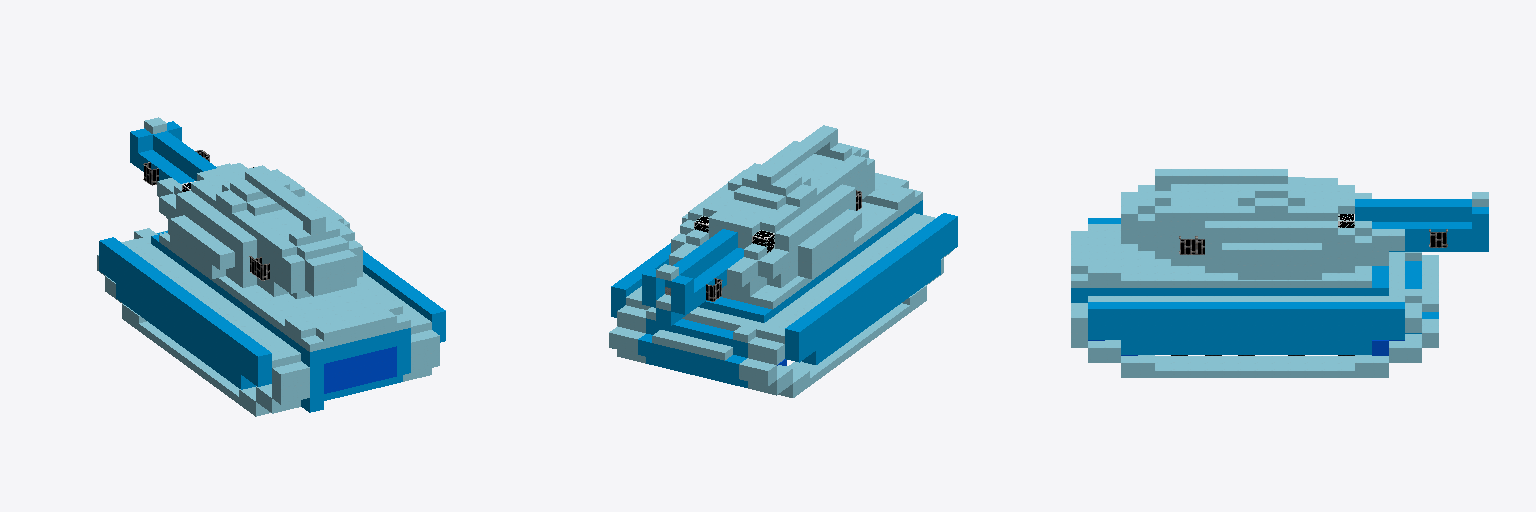
The picture shows the model from 3 angles: view 1: azimuth 30°, elevation 25°; view 2: azimuth 150°, elevation 25°; view 3: azimuth 270°, elevation 25°; orthographic projection.
Visible parts, largest first — view 1: Double_Stone_Slab, Iron_Block, Slab, Cobblestone, Iron_Bars; view 2: Iron_Block, Double_Stone_Slab, Slab, Glass; view 3: Iron_Block, Double_Stone_Slab, Slab, Iron_Bars.
Boxes of the visible parts, x1,y1,x2,y2 form: Double_Stone_Slab: [97, 163, 439, 416]; Iron_Block: [99, 121, 445, 412]; Slab: [122, 117, 431, 403]; Cobblestone: [324, 346, 396, 393]; Iron_Bars: [143, 150, 269, 280]; Iron_Block: [611, 200, 957, 387]; Double_Stone_Slab: [609, 125, 951, 397]; Slab: [626, 131, 935, 385]; Glass: [694, 216, 774, 253]; Iron_Block: [1071, 199, 1488, 354]; Double_Stone_Slab: [1071, 169, 1438, 377]; Slab: [1071, 169, 1488, 377]; Iron_Bars: [1179, 229, 1447, 254].
Size of the model in its own units: 26.04 by 22.04 by 50.08.
Materials: 9 (2 with a texture image).